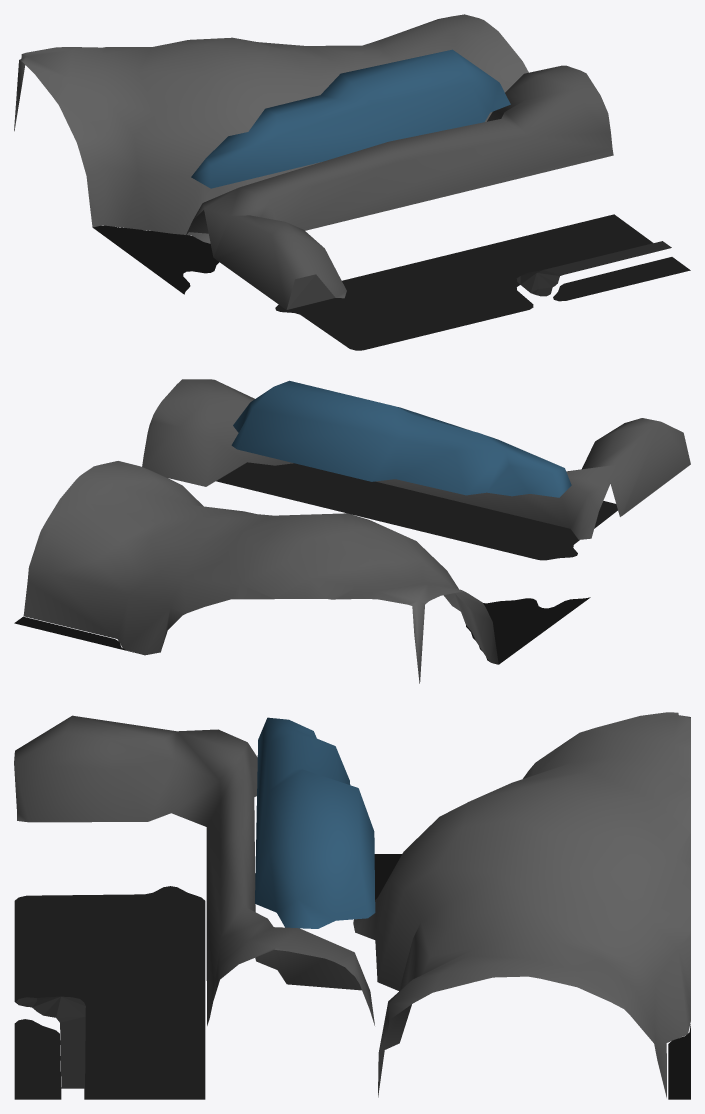
The model's file is newsho-83.glb.
The picture shows the model from 3 angles, top to bottom: view 1: azimuth 30°, elevation 25°; view 2: azimuth 150°, elevation 25°; view 3: azimuth 270°, elevation 25°; orthographic projection. The views are drawn at different scales.
Visible parts, largest first — view 1: newsho-83; view 2: newsho-83; view 3: newsho-83.
Boxes of the visible parts, x1=… form: newsho-83: x1=14, y1=14, x2=690, y2=350; newsho-83: x1=14, y1=379, x2=690, y2=683; newsho-83: x1=14, y1=712, x2=690, y2=1099.
Size of the model in its own units: 2 by 0.7572 by 2.33.
